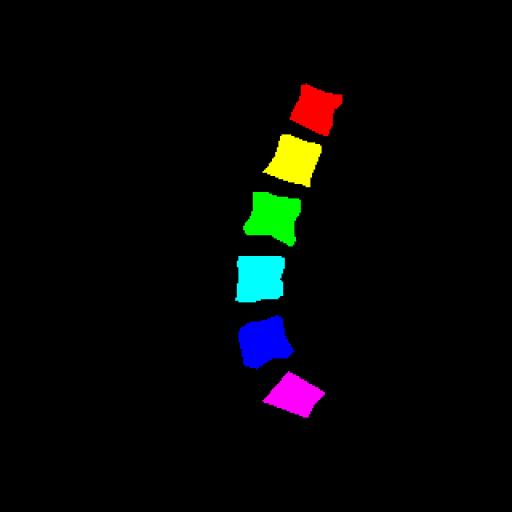L1: (290, 84, 342, 136)
L2: (263, 134, 322, 187)
L3: (243, 192, 301, 246)
L4: (235, 256, 285, 302)
L5: (238, 315, 293, 368)
S1: (263, 372, 325, 418)
